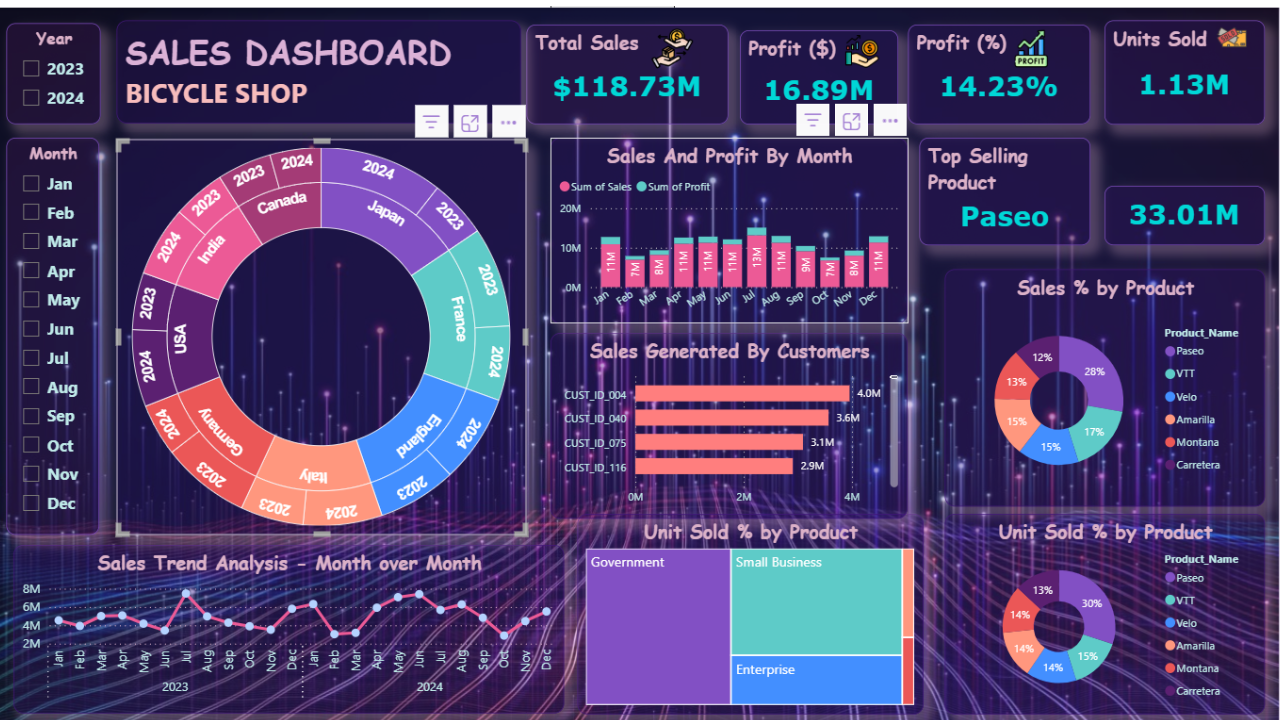

The dashboard page shown, as its layout file describes it:
{"tool":"powerbi","page":{"name":"Page 1","canvas":[1280,720],"ordinal":0},"visuals":[{"type":"card","title":"Total Sales","fields":{"Values":["Sum(Sales Data.Sales)"]},"box":[528.8,17.6,201.3,99.1],"z":0},{"type":"card","title":"Profit ($)","fields":{"Values":["Sum(Sales Data.Profit)"]},"box":[741.3,22.4,158.2,94.3],"z":1000},{"type":"card","title":"Profit (%)","fields":{"Values":["Sales Data.Profit (%)"]},"box":[909.1,17.6,182.1,99.1],"z":2000},{"type":"card","title":"Units Sold","fields":{"Values":["Sum(Sales Data.Units Sold)"]},"box":[1105.6,12.8,159.8,103.8],"z":3000},{"type":"card","title":"Top Selling Product","fields":{"Values":["Min(Sales Data.Product_Name)"]},"box":[920.3,129.4,171,107],"z":4000},{"type":"card","title":"Units Sold","fields":{"Values":["Sum(Sales Data.Sales)"]},"box":[1105.6,177.3,159.8,59.1],"z":5000},{"type":"donutChart","title":" Sales % by Product","fields":{"Category":["Sales Data.Product_Name"],"Y":["Sum(Sales Data.Sales)"]},"box":[945.8,260.4,319.5,236.5],"z":6000},{"type":"pieChart","title":"Unit Sold % by Product","fields":{"Y":["Sum(Sales Data.Units Sold)"],"Category":["Sales Data.Product_Name"]},"box":[945.8,504.9,319.5,199.7],"z":7000},{"type":"treemap","title":"Unit Sold % by Product","fields":{"Group":["Sales Data.Segment"],"Values":["Sum(Sales Data.Sales)"]},"box":[580,504.9,345.1,199.7],"z":8000},{"type":"lineChart","title":"Sales Trend Analysis - Month over Month","fields":{"Y":["Sum(Sales Data.Sales)"],"Category":["Sales Data.Date.Variation.Date Hierarchy.Year","Sales Data.Month Name"]},"box":[17.6,535.2,549.6,167.8],"z":9000},{"type":"slicer","title":"Year","fields":{"Values":["Sales Data.Year"]},"box":[9.6,16,94.3,100.7],"z":10000},{"type":"slicer","title":"Month","fields":{"Values":["Sales Data.Month Name"]},"box":[9.6,129.4,92.7,396.2],"z":11000},{"type":"textbox","box":[119.8,12.7,403.2,102.9],"z":12000},{"type":"clusteredBarChart","title":" Sales Generated By Customers","fields":{"Category":["Sales Data.Customer_ID"],"Y":["Sum(Sales Data.Sales)"]},"box":[552.8,324.3,356.3,185.3],"z":13000},{"type":"columnChart","title":" Sales And Profit By Month","fields":{"Category":["Sales Data.Month Name"],"Y":["Sum(Sales Data.Sales)","Sum(Sales Data.Profit)"]},"box":[552.8,129.4,356.3,185.3],"z":14000},{"type":"Sunburst1445472000808","title":" Sales % by Product","fields":{"Nodes":["Sales Data.Country","Sales Data.Year"],"Values":["Sum(Sales Data.Sales)"]},"box":[119.8,131.1,408.9,394.8],"z":15000},{"type":"image","box":[1000.1,17.6,65.5,47.9],"z":16000},{"type":"image","box":[840.4,19.2,46.3,46.3],"z":17000},{"type":"image","box":[642.3,14.4,62.3,52.7],"z":18000},{"type":"image","box":[1203,8,59.1,41.5],"z":19000}]}

Visuals, with their boxes in screenshot pixels (x1, y1, x2, y2), scaled from the page's 1280x720 canvas onto the 1280x720 screenshot:
"Total Sales" card: [x1=529, y1=18, x2=730, y2=117]
"Profit ($)" card: [x1=741, y1=22, x2=900, y2=117]
"Profit (%)" card: [x1=909, y1=18, x2=1091, y2=117]
"Units Sold" card: [x1=1106, y1=13, x2=1265, y2=117]
"Top Selling Product" card: [x1=920, y1=129, x2=1091, y2=236]
"Units Sold" card: [x1=1106, y1=177, x2=1265, y2=236]
" Sales % by Product" donutChart: [x1=946, y1=260, x2=1265, y2=497]
"Unit Sold % by Product" pieChart: [x1=946, y1=505, x2=1265, y2=705]
"Unit Sold % by Product" treemap: [x1=580, y1=505, x2=925, y2=705]
"Sales Trend Analysis - Month over Month" lineChart: [x1=18, y1=535, x2=567, y2=703]
"Year" slicer: [x1=10, y1=16, x2=104, y2=117]
"Month" slicer: [x1=10, y1=129, x2=102, y2=526]
textbox: [x1=120, y1=13, x2=523, y2=116]
" Sales Generated By Customers" clusteredBarChart: [x1=553, y1=324, x2=909, y2=510]
" Sales And Profit By Month" columnChart: [x1=553, y1=129, x2=909, y2=315]
" Sales % by Product" Sunburst1445472000808: [x1=120, y1=131, x2=529, y2=526]
image: [x1=1000, y1=18, x2=1066, y2=66]
image: [x1=840, y1=19, x2=887, y2=66]
image: [x1=642, y1=14, x2=705, y2=67]
image: [x1=1203, y1=8, x2=1262, y2=50]
